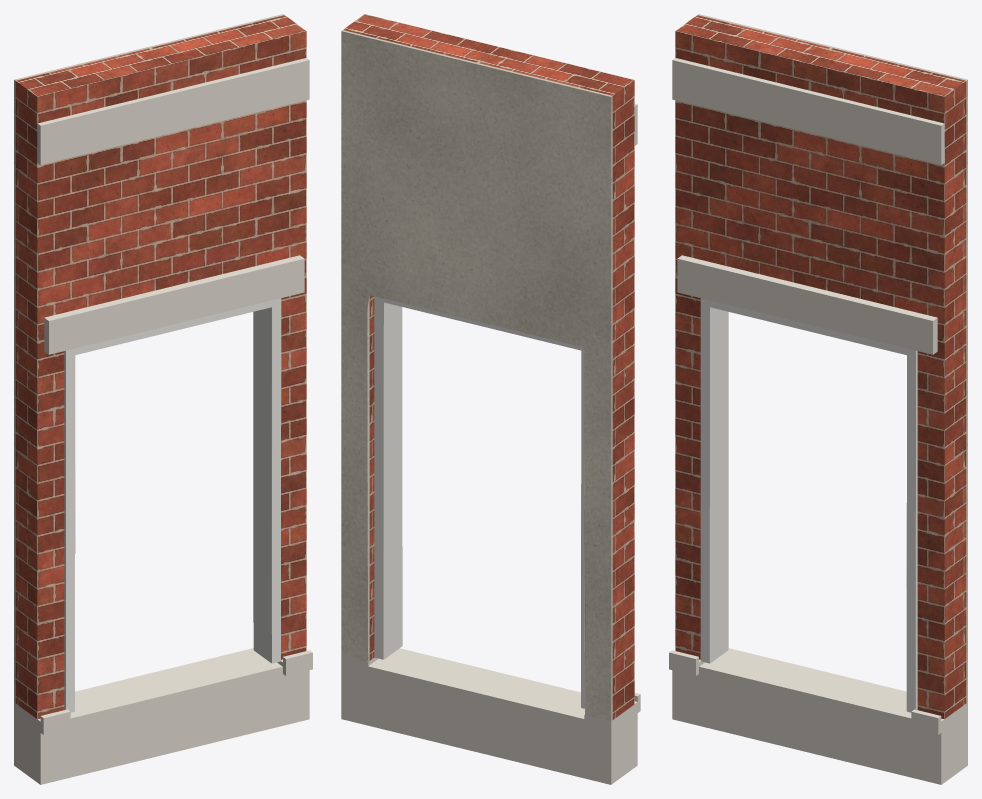
The model's file is wall_freight.glb.
3 renders of one model, left to right at view 1: azimuth 30°, elevation 25°; view 2: azimuth 150°, elevation 25°; view 3: azimuth 330°, elevation 25°, orthographic.
Parts seen in each view (by area): view 1: wall_freight_brick, wall_freight_lime, wall_freight_frame, wall_freight_plaster; view 2: wall_freight_plaster, wall_freight_lime, wall_freight_brick, wall_freight_frame; view 3: wall_freight_brick, wall_freight_lime, wall_freight_frame, wall_freight_plaster.
Boxes of the visible parts, x1,y1,x2,y2 form: wall_freight_brick: [15, 15, 306, 719]; wall_freight_lime: [14, 58, 312, 784]; wall_freight_frame: [64, 298, 281, 712]; wall_freight_plaster: [14, 14, 284, 702]; wall_freight_plaster: [341, 30, 612, 721]; wall_freight_lime: [341, 104, 640, 784]; wall_freight_brick: [343, 14, 634, 719]; wall_freight_frame: [374, 296, 584, 708]; wall_freight_brick: [675, 15, 966, 719]; wall_freight_lime: [669, 58, 967, 784]; wall_freight_frame: [700, 298, 917, 712]; wall_freight_plaster: [697, 14, 967, 702].
Bounding box in the file's own units: 2 × 4.87 × 0.38.
4 materials, 2 textured.
